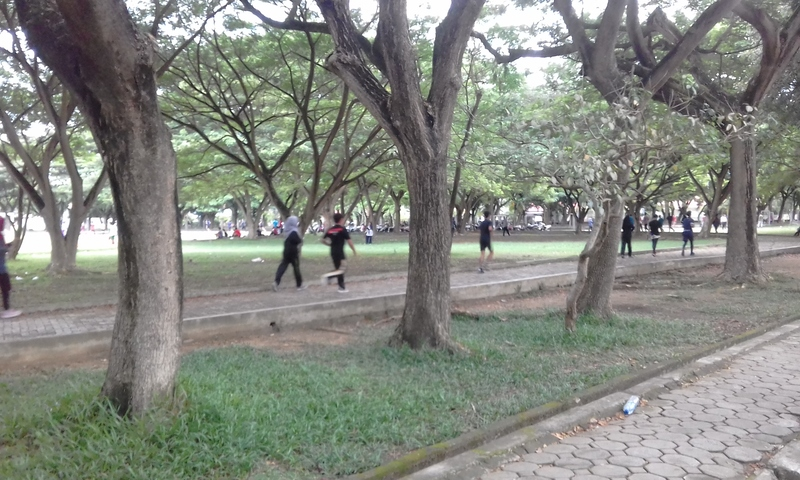person: (321, 209, 359, 297), (272, 211, 305, 293), (473, 207, 497, 275), (680, 208, 703, 257), (647, 212, 664, 258), (620, 210, 632, 263)
